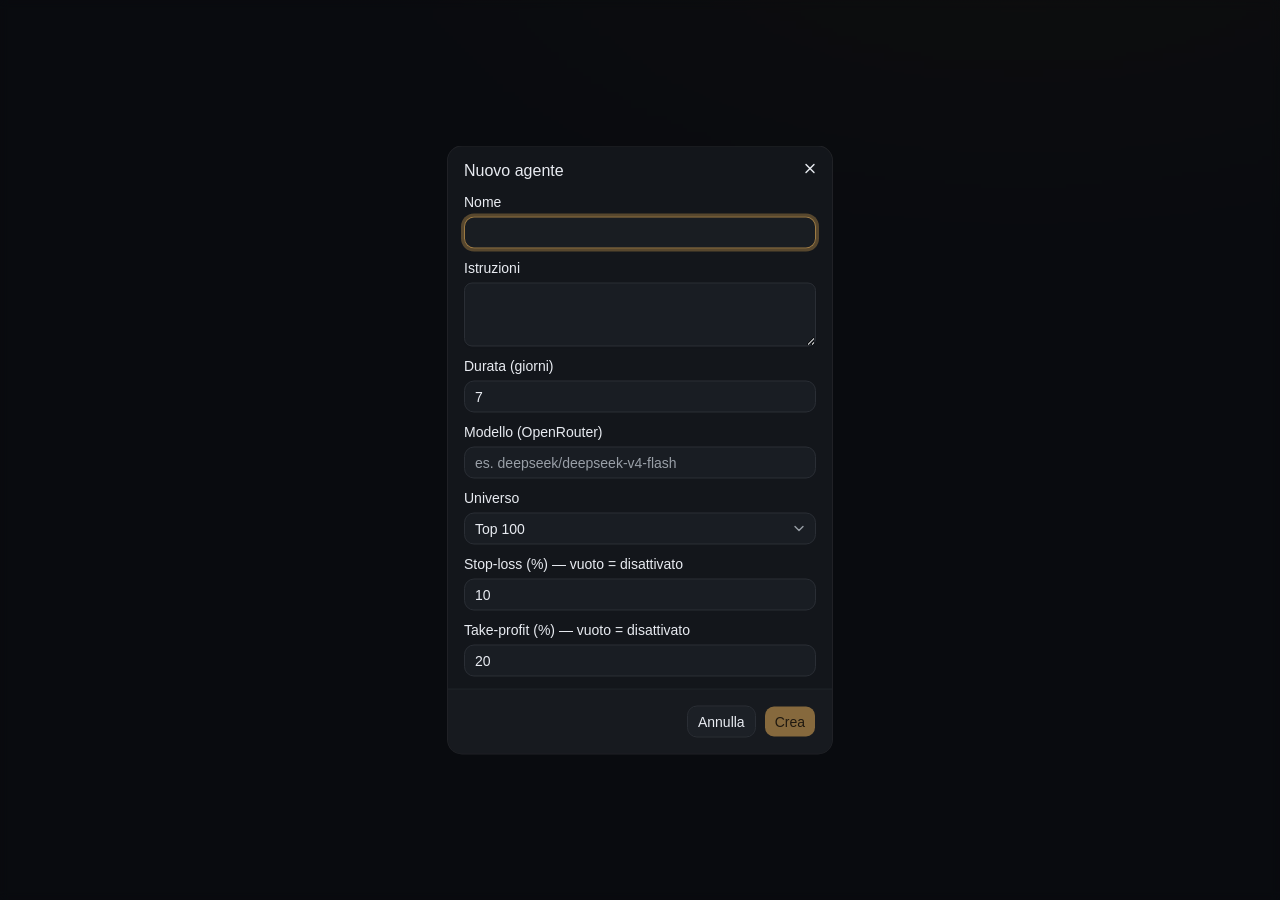
Test: AgentFormModal create › keeps submit disabled until name AND model are filled
Expected: the button "Crea" is disabled, 764,706 -> 816,738
Step 1. Type "Alpha" into the field labelled "Nome" → (640, 232), box 464,216 -> 816,248
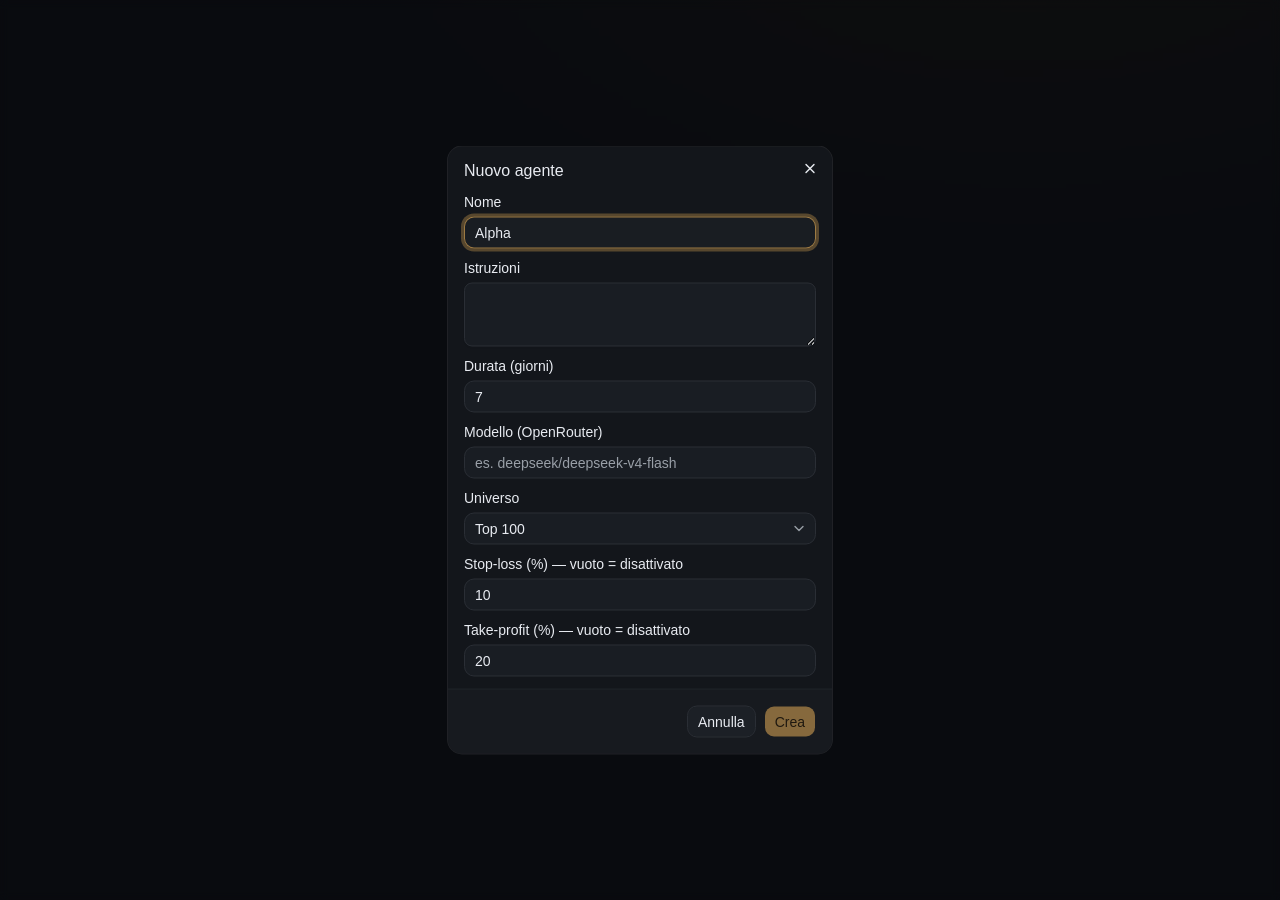
Expected: the button "Crea" is disabled, 764,706 -> 816,738
Step 2. Type "claude-opus-4-8" into the field labelled "Modello (OpenRouter)" → (640, 462), box 464,446 -> 816,478
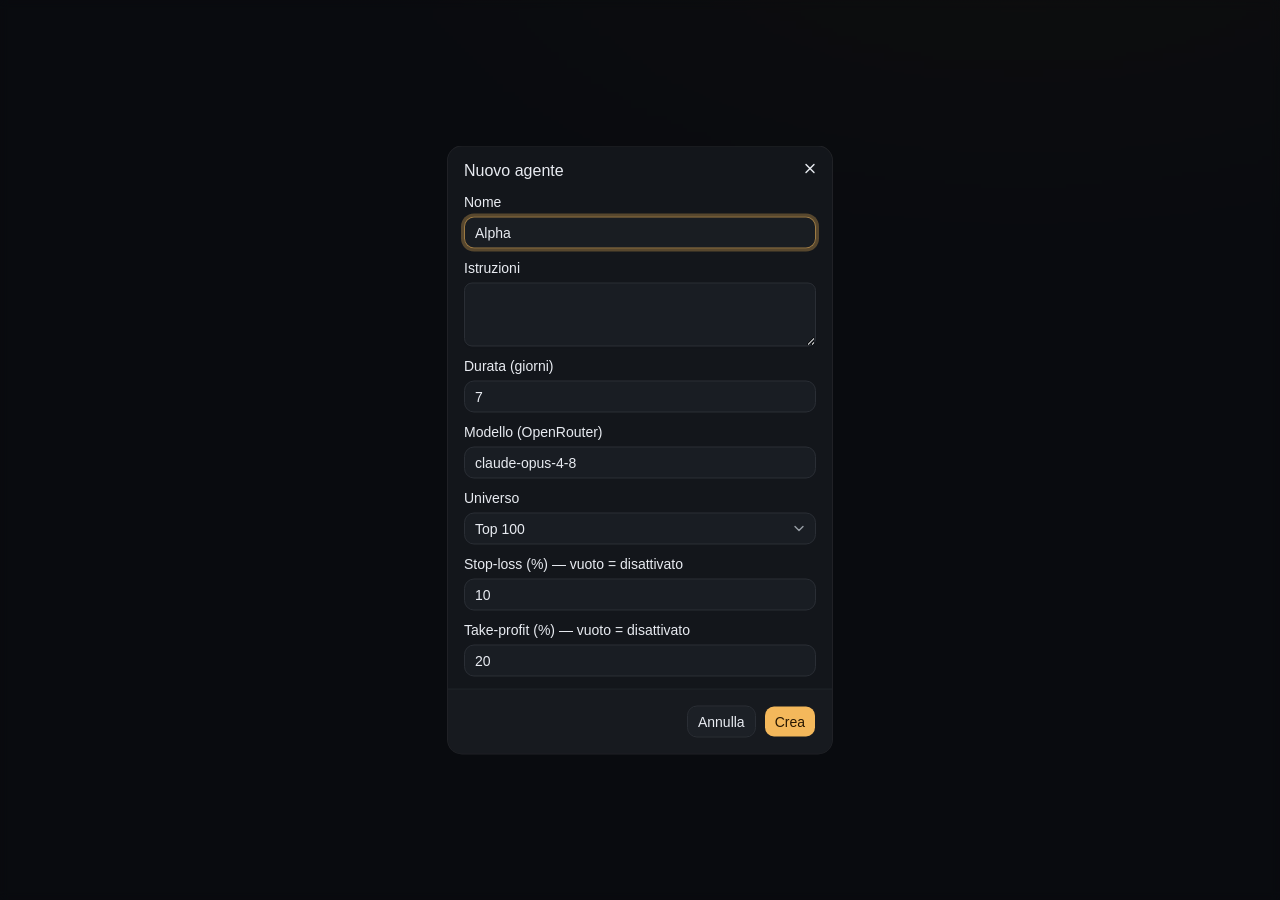
Now the button "Crea" is enabled, box 764,706 -> 816,738
